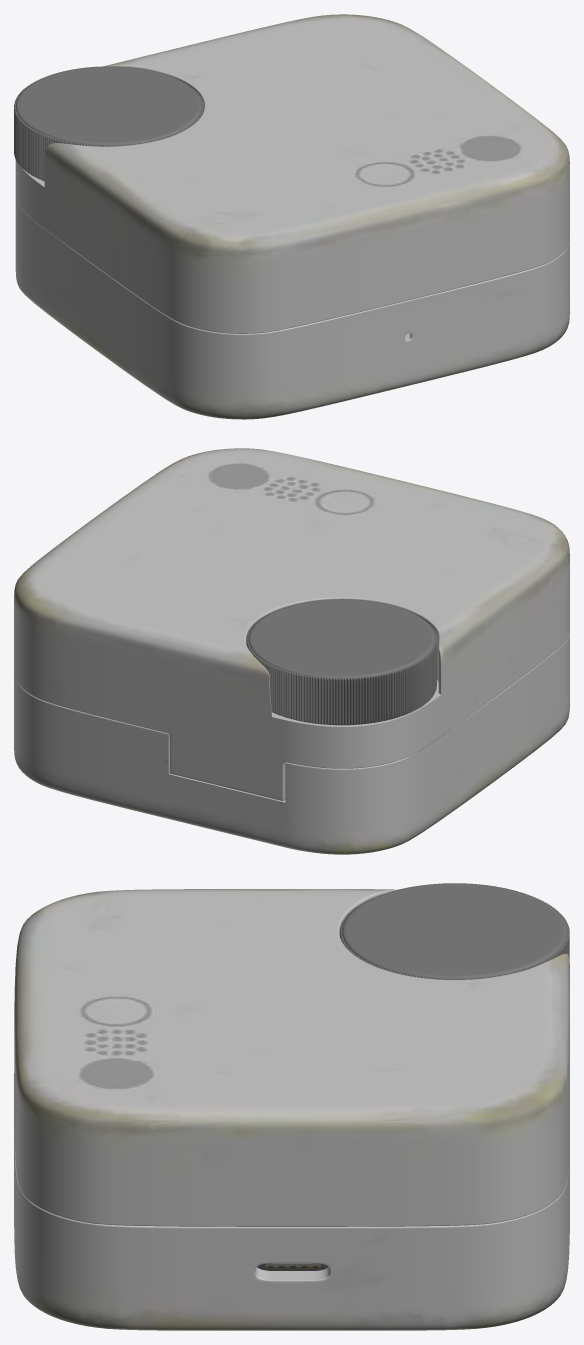
File: nothing_buds_2_pro-compressed.glb
3 renders of one model, top to bottom at view 1: azimuth 30°, elevation 25°; view 2: azimuth 150°, elevation 25°; view 3: azimuth 270°, elevation 25°, orthographic. The views are drawn at different scales.
Visible parts, largest first — view 1: Top002_8, Bottom_0, Top001_6, Cube_5; view 2: Top002_8, Bottom_0, Top001_6, Cube_5; view 3: Top002_8, Bottom_0, Top001_6, Cube_5.
Part boxes in pixels (box(x1,y1,x2,y2)): Top002_8: box(15, 14, 569, 333); Bottom_0: box(15, 197, 569, 419); Top001_6: box(16, 66, 201, 146); Cube_5: box(14, 82, 203, 181); Top002_8: box(14, 448, 569, 800); Bottom_0: box(14, 632, 569, 854); Top001_6: box(248, 599, 434, 725); Cube_5: box(246, 613, 436, 725); Top002_8: box(14, 889, 569, 1226); Bottom_0: box(14, 1073, 569, 1330); Top001_6: box(342, 883, 567, 979); Cube_5: box(340, 898, 569, 979).
Bounding box in the file's own units: 0.0534 × 0.0233 × 0.0534.
10 materials, 3 textured.
